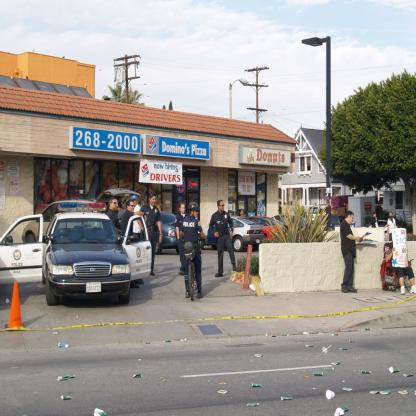Car: (0, 187, 306, 307), (364, 220, 389, 228)
